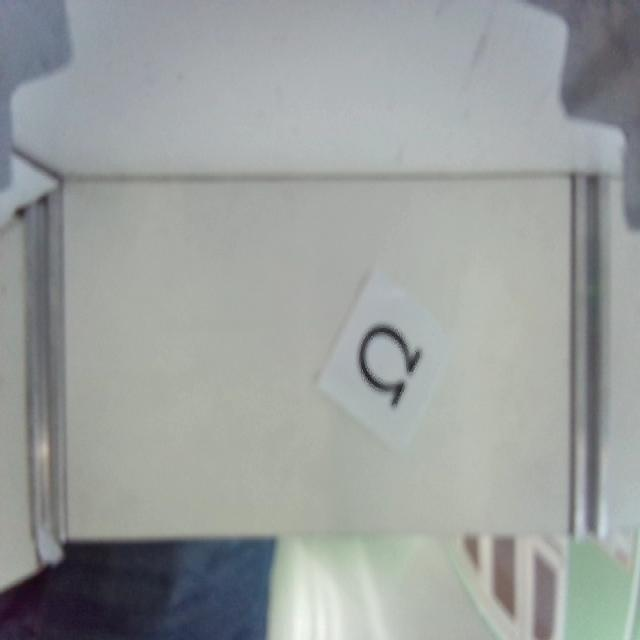OM: (356, 324, 422, 406)
